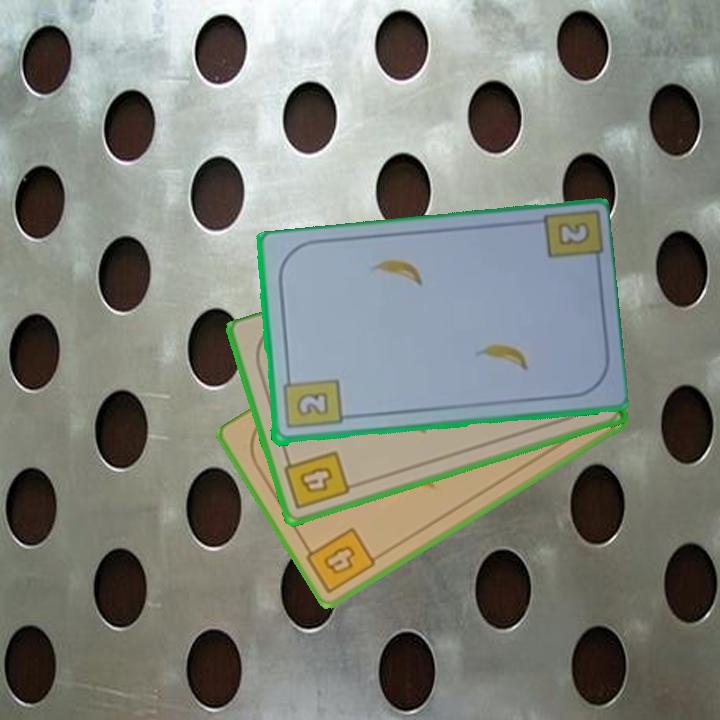2b: (279, 371, 344, 432), (557, 222, 589, 246)
4b: (299, 524, 379, 596), (280, 447, 353, 513)
